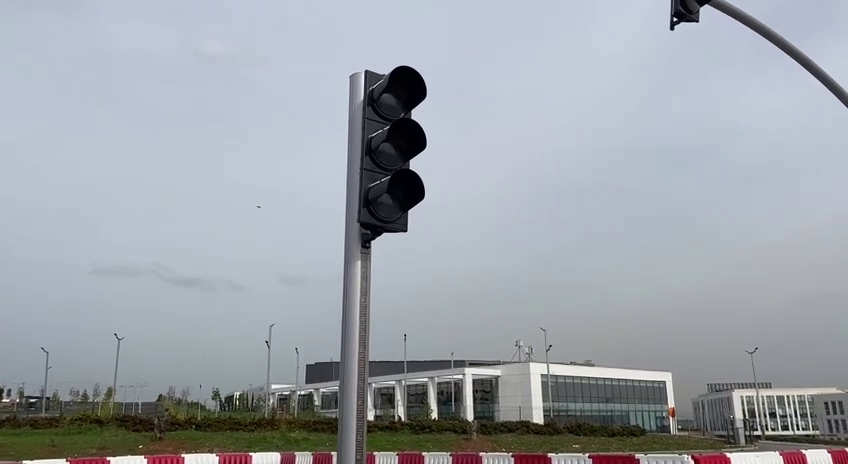trafficLight: (344, 60, 431, 243), (667, 1, 713, 33)
